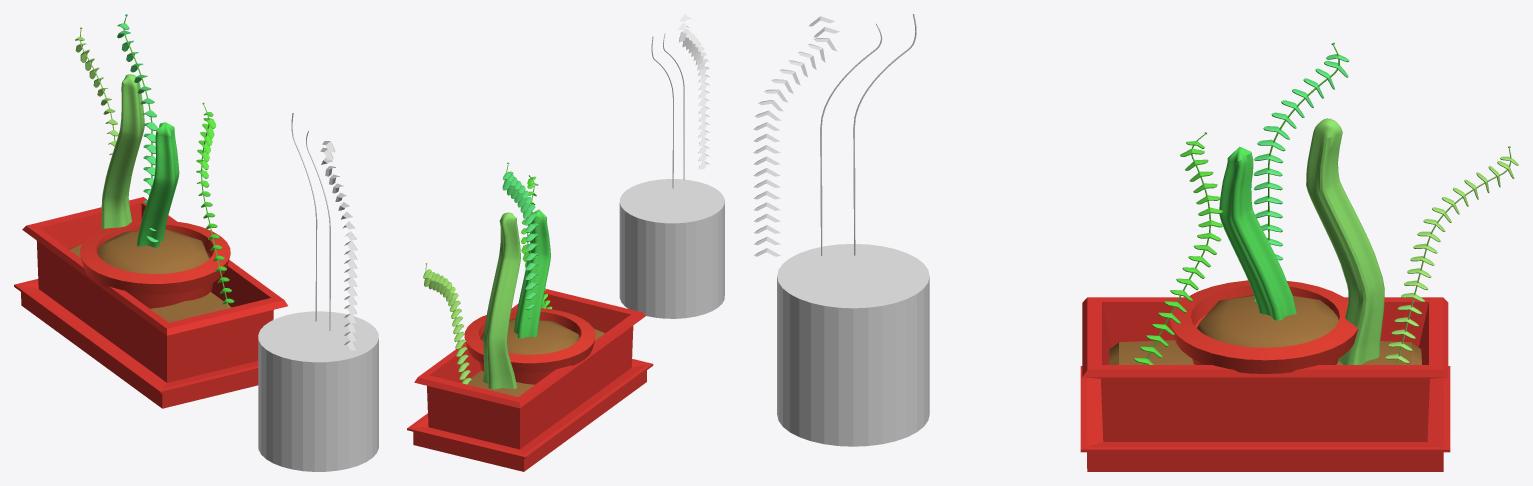
Rendered from Maceta_02.fbx.
3 renders of one model, left to right at view 1: azimuth 30°, elevation 25°; view 2: azimuth 150°, elevation 25°; view 3: azimuth 270°, elevation 25°, orthographic. The views are drawn at different scales.
Visible parts, largest first — view 1: Cube.001, Cylinder, Cylinder.002, Plane.002, BézierCurve.006; view 2: Cube.001, Cylinder, Cylinder.002, Plane.002; view 3: Cube.001, Cylinder, Cylinder.002, Plane.002.
Boxes of the visible parts, x1,y1,x2,y2 form: Cube.001: (14, 27, 287, 408); Cylinder: (258, 311, 378, 471); Cylinder.002: (80, 14, 230, 308); Plane.002: (320, 141, 357, 350); BézierCurve.006: (306, 131, 330, 330); Cube.001: (407, 175, 653, 471); Cylinder: (619, 179, 724, 318); Cylinder.002: (464, 162, 595, 384); Plane.002: (678, 14, 709, 169); Cube.001: (1080, 118, 1518, 471); Cylinder: (777, 244, 929, 446); Cylinder.002: (1170, 42, 1358, 373); Plane.002: (753, 16, 839, 256).
Size of what is drawn, in the model's own units: 260 by 604 by 1003.
